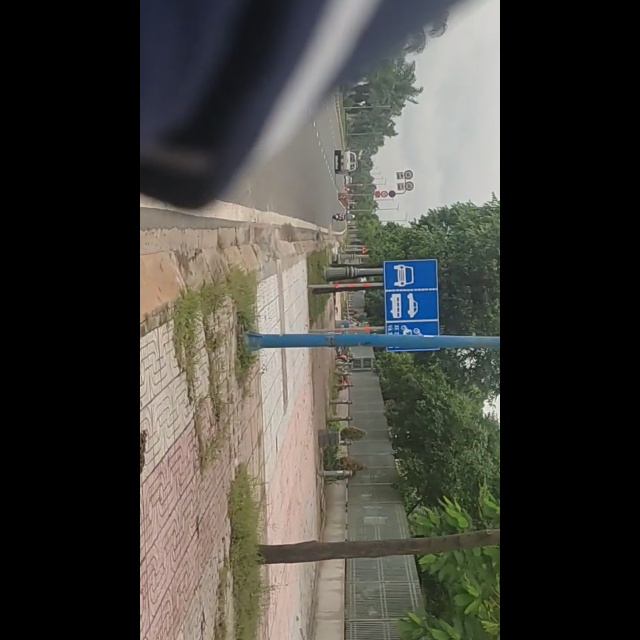bien_cam: (429, 257, 540, 352)
